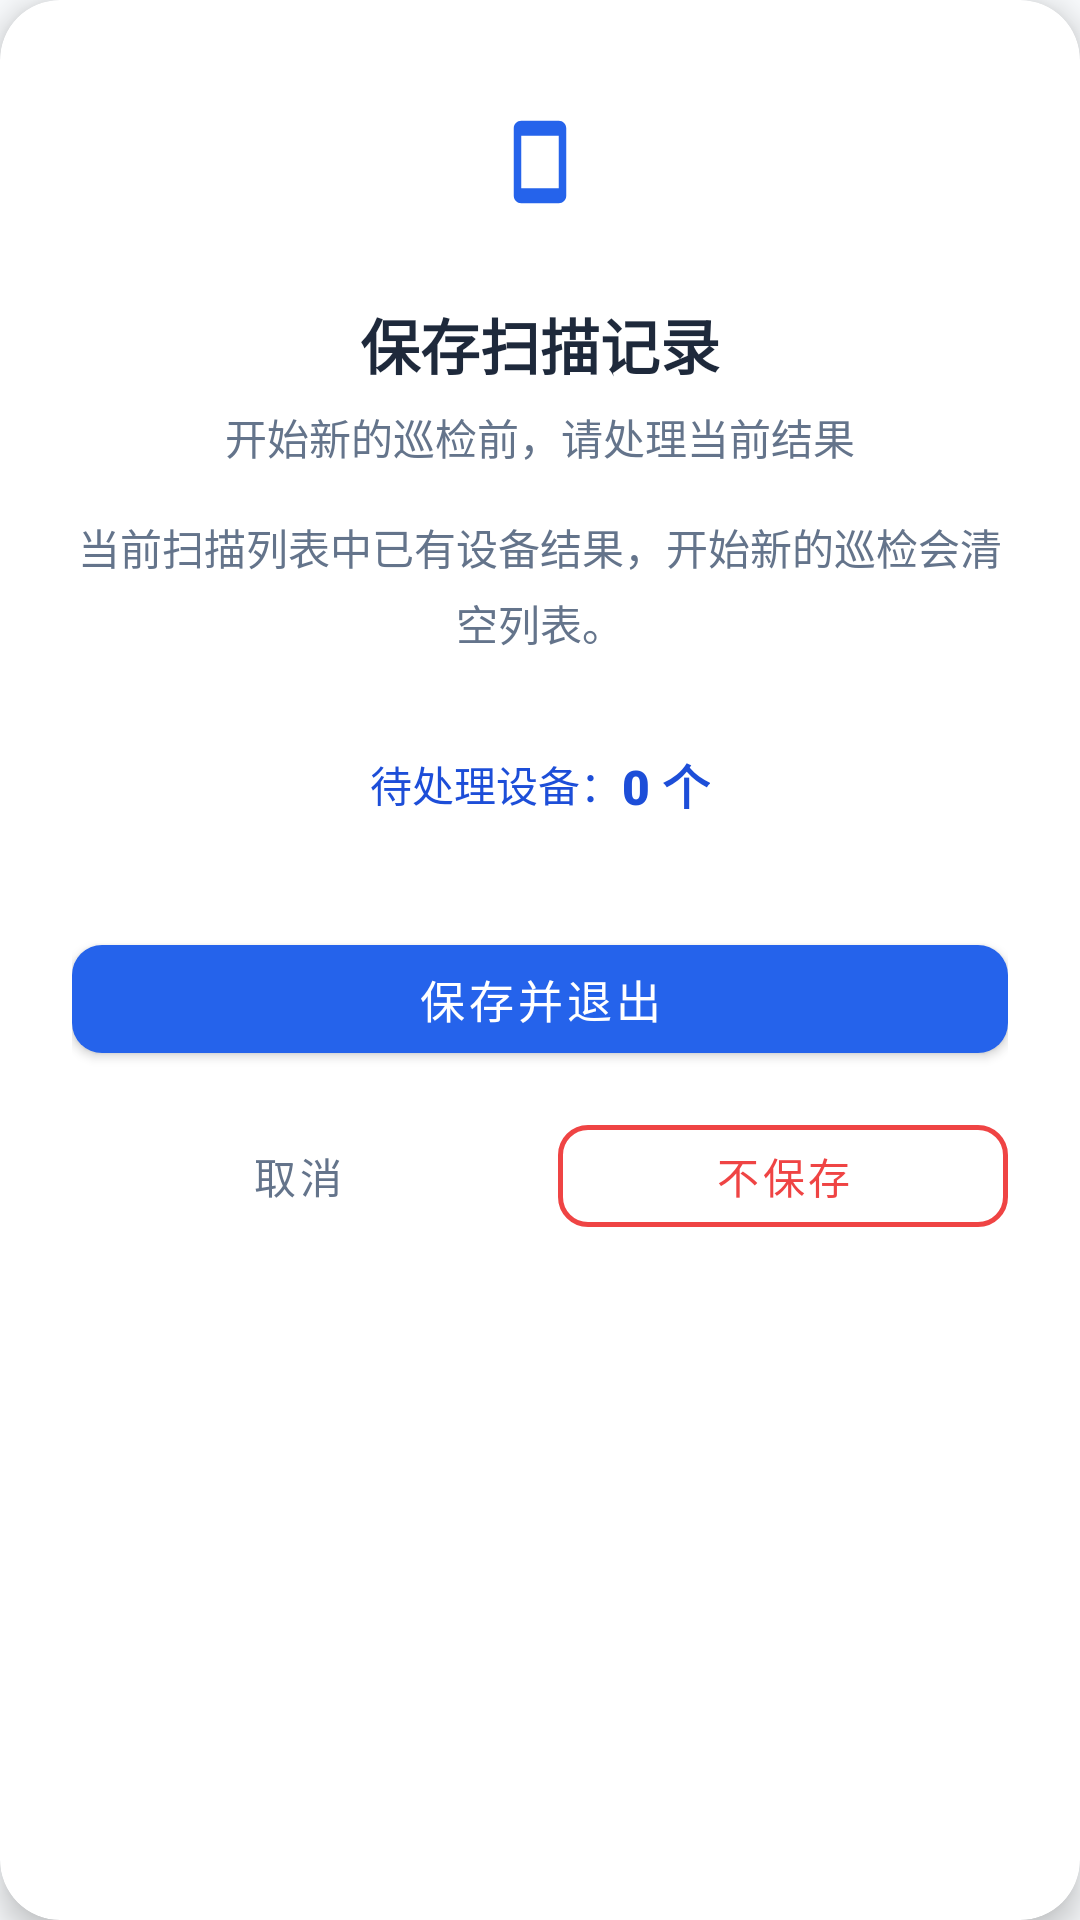

Where to tap for icons on this 1080 × 1920 app screen, as (x=x, y=y):
device model: (x=540, y=162)
